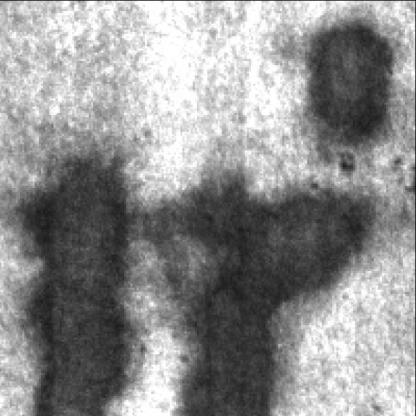patches: (154, 187, 366, 416), (15, 164, 131, 416), (300, 29, 393, 175)
